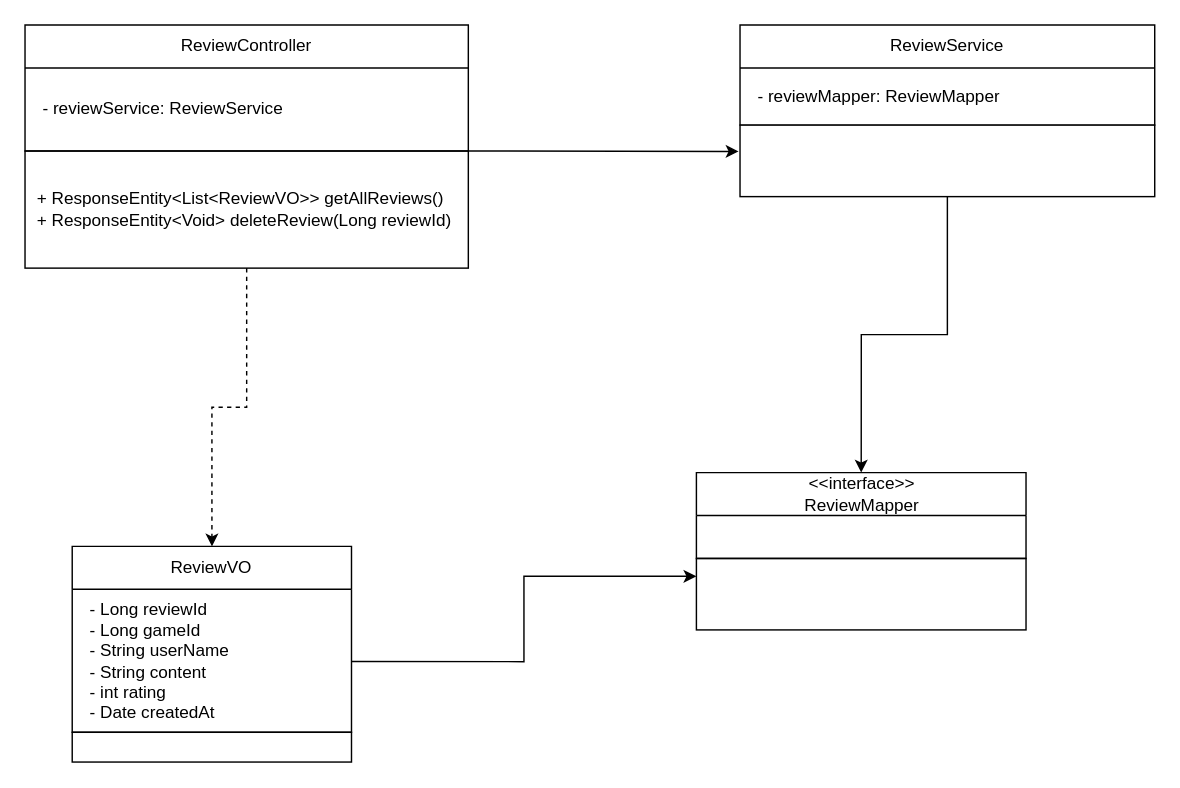
Some shapes in this 1180 by 788 pixel diagram are drawn without their labels. The centre of each missing label's shape, as x and y in pixels:
+ List<ReviewVO> findAllReviews() + void deleteReviewById(Long reviewId): pixel 860 593
+ List<ReviewVO> getAllReviews() + void deleteReviewById(Long reviewId): pixel 947 160
